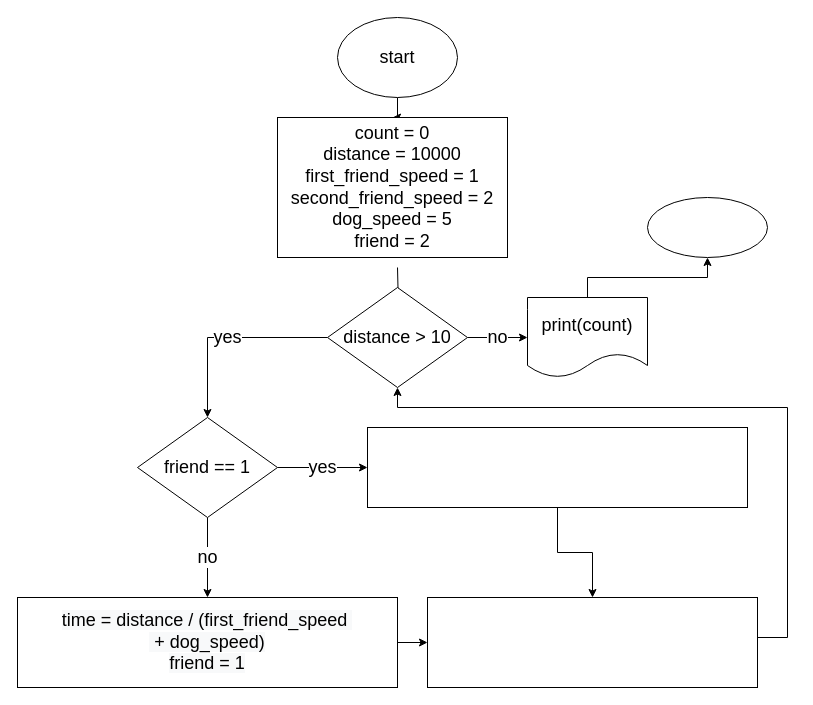
Image size: 813x705. Some labels were removed from this diagram. The shapes that lost their labels are listed below. From the top down, each one's centre as x and y in pixels, then its label:
the point at 707,227: finish
the point at 557,467: time = distance / (first_friend_speed + dog_speed) friend = 2
the point at 592,642: distance = distance - (first_friend_speed + second_friend_speed) count++
